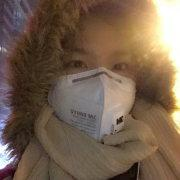OK: (47, 40, 143, 136)
